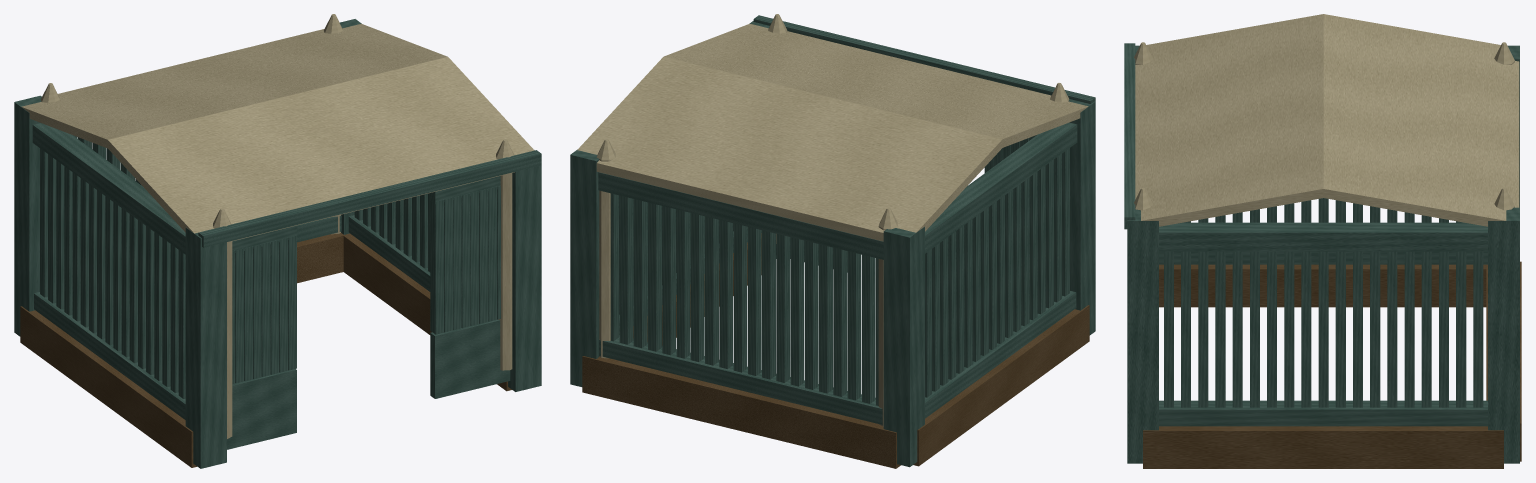
3 views of the same model, side by side, from view 1: azimuth 30°, elevation 25°; view 2: azimuth 150°, elevation 25°; view 3: azimuth 270°, elevation 25° (orthographic). The views are drawn at different scales.
Parts seen in each view (by area): view 1: garrison_part_0001, garrison_part_0000; view 2: garrison_part_0001, garrison_part_0000; view 3: garrison_part_0001, garrison_part_0000.
Part boxes in pixels (bbox=[...]): garrison_part_0001: bbox=[14, 14, 541, 468]; garrison_part_0000: bbox=[20, 233, 511, 467]; garrison_part_0001: bbox=[570, 14, 1095, 467]; garrison_part_0000: bbox=[582, 233, 1089, 468]; garrison_part_0001: bbox=[1124, 14, 1519, 463]; garrison_part_0000: bbox=[1143, 261, 1521, 468].
Bounding box in the file's own units: 498 × 367 × 473.
